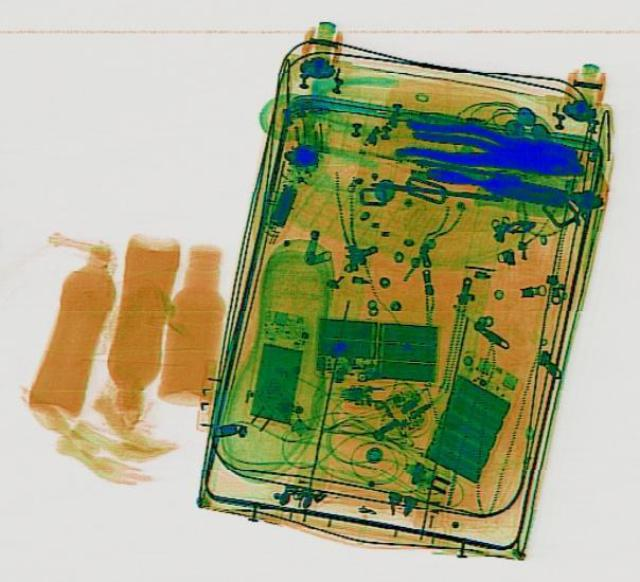Pliers: (390, 112, 580, 183)
